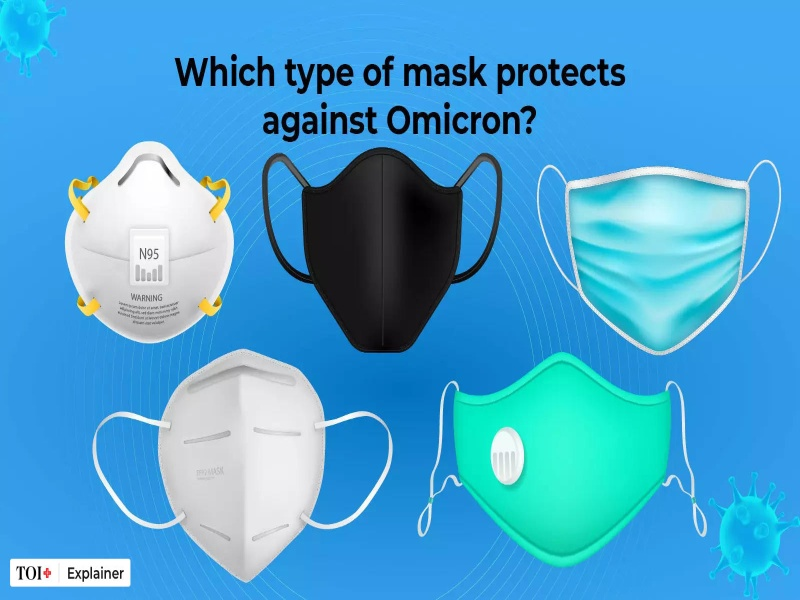mask: (453, 349, 673, 570), (159, 350, 326, 583), (564, 166, 752, 355), (62, 140, 234, 346), (301, 147, 464, 354)
